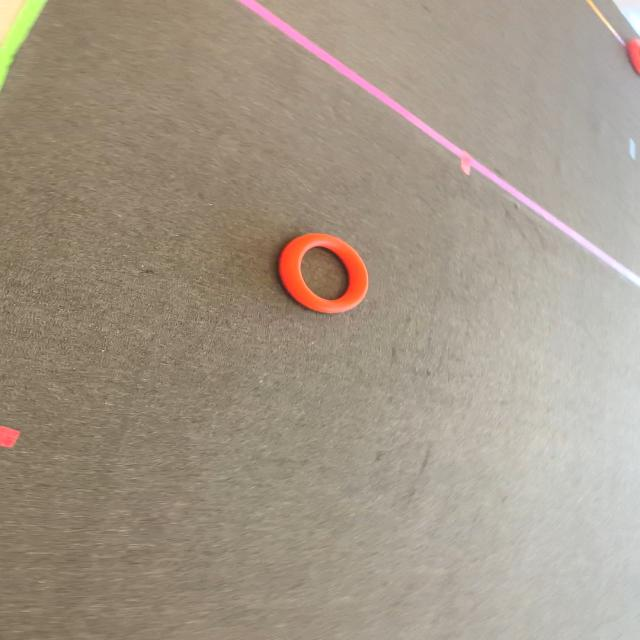notes: (274, 230, 370, 315)
